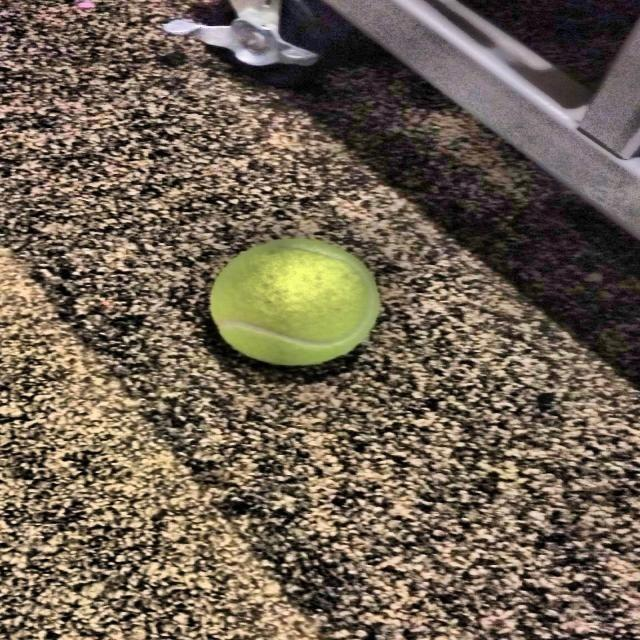ball: (209, 236, 380, 368)
